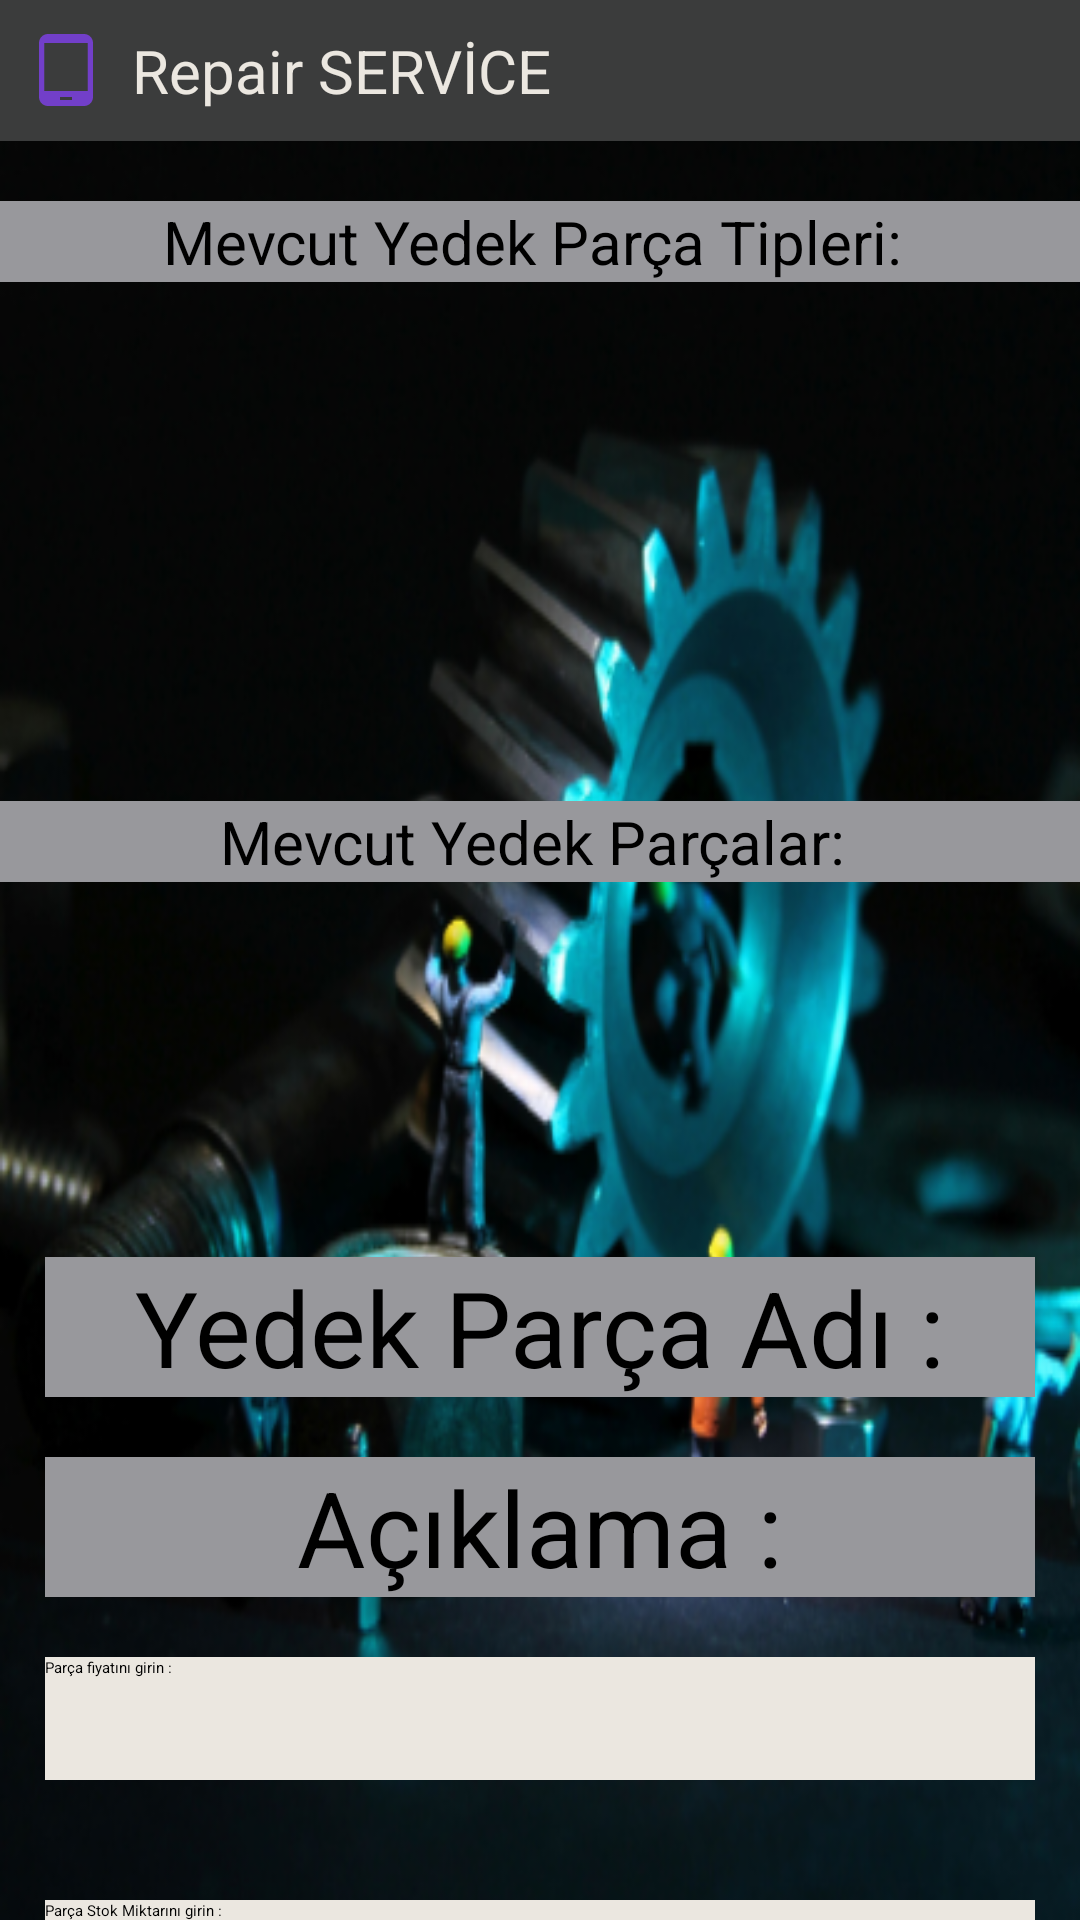

Screen size 1080px×1920px. Icon name, then its center in pixels as (x,y):
tablet android: (66,70)
